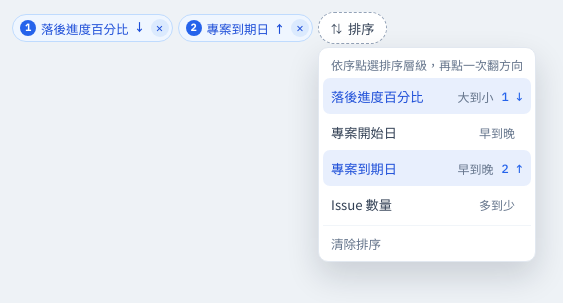
Test: OvSortControls › 選單選項點一下加一層，右側顯示層級與方向
Click the button with class "sort-option" showing "Issue 數量 多到少" at (427, 204), box [323,186,531,222]
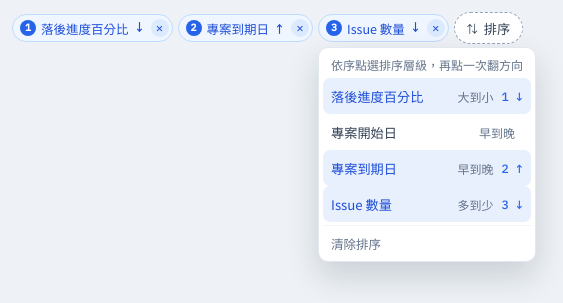
Check: the text with class "sort-dir" reads "多到少", box [457,196,493,212]
Check: the text with class "sort-badge" reads "3 ↓", box [501,196,523,212]
